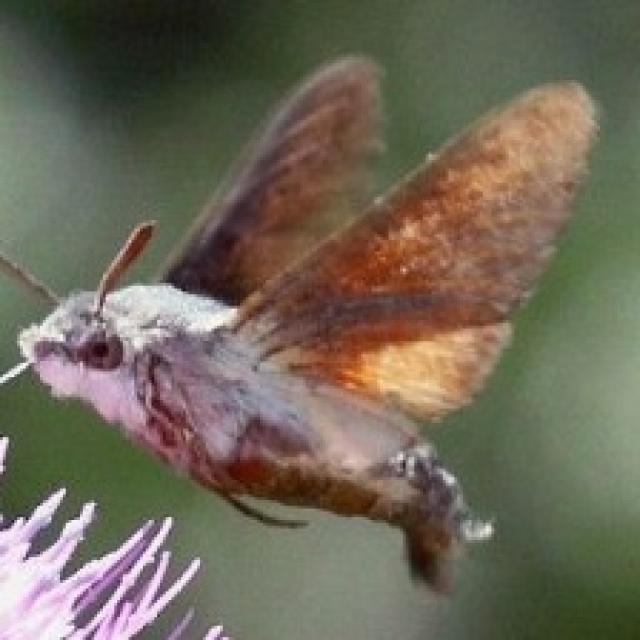butterfly: (0, 49, 600, 594)
